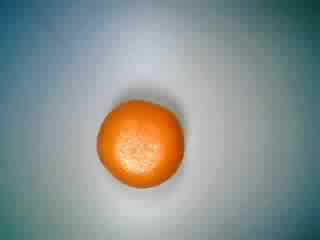orange: (86, 93, 192, 193)
